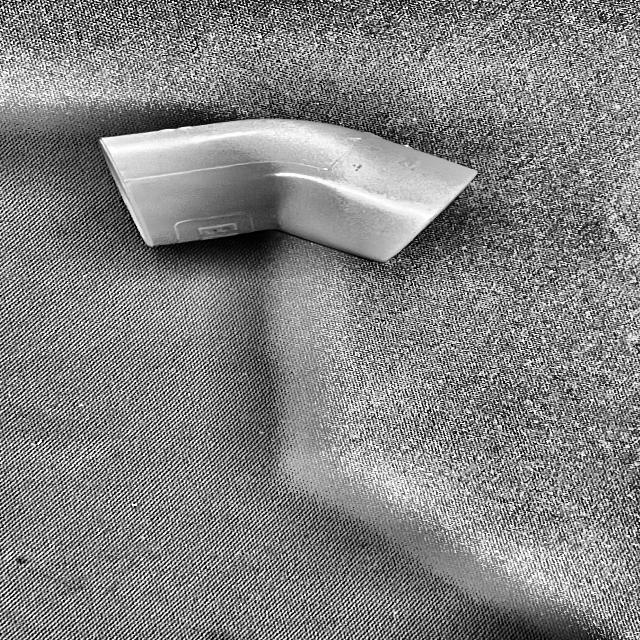ELBOW45: (99, 119, 477, 263)
